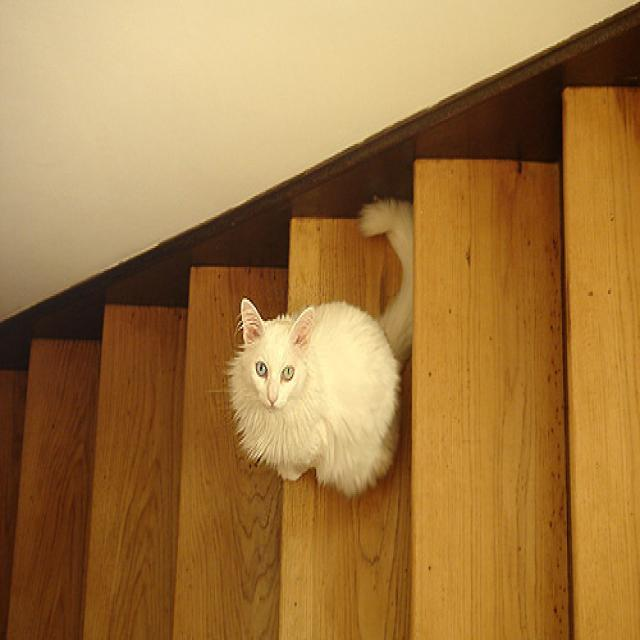left eye: (280, 362, 294, 381)
